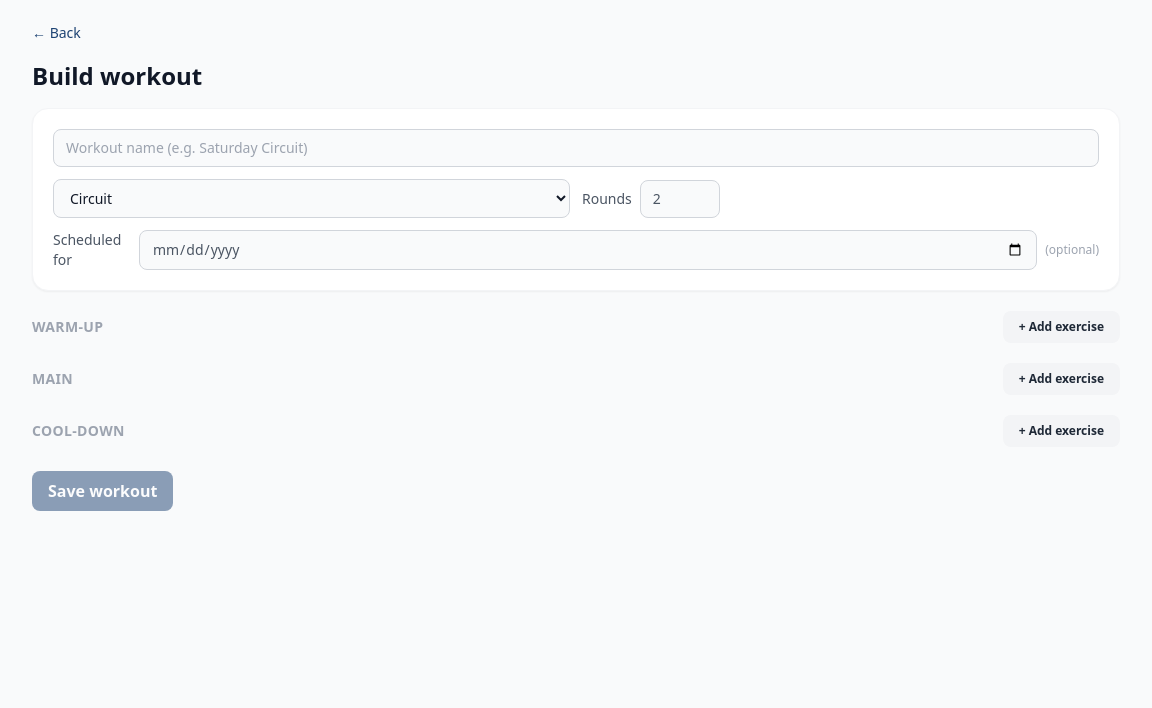
Test: WorkoutBuilderView › save is disabled until there is a name and an item
Check: the button with test id "save" is disabled, box [32, 471, 173, 511]
In the field with test id "tpl-name": x=576, y=148 [53, 129, 1099, 167], type "Saturday Circuit"
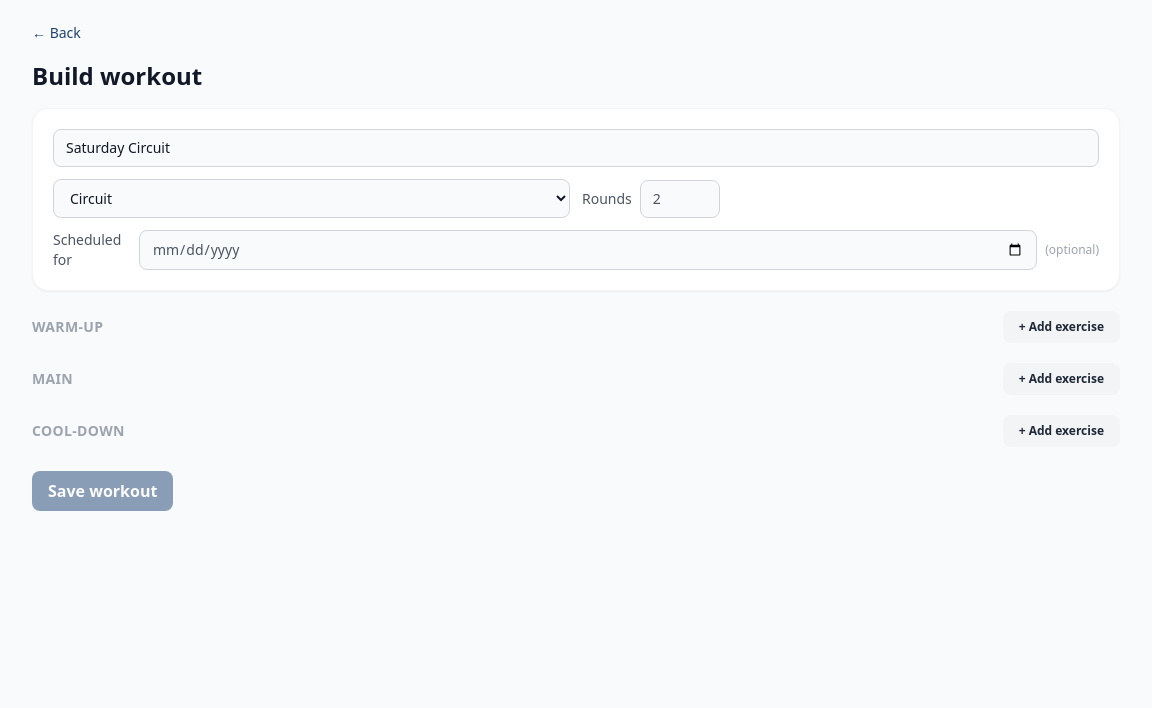
Click the button with test id "add-main": x=1061, y=379 [1003, 363, 1120, 395]
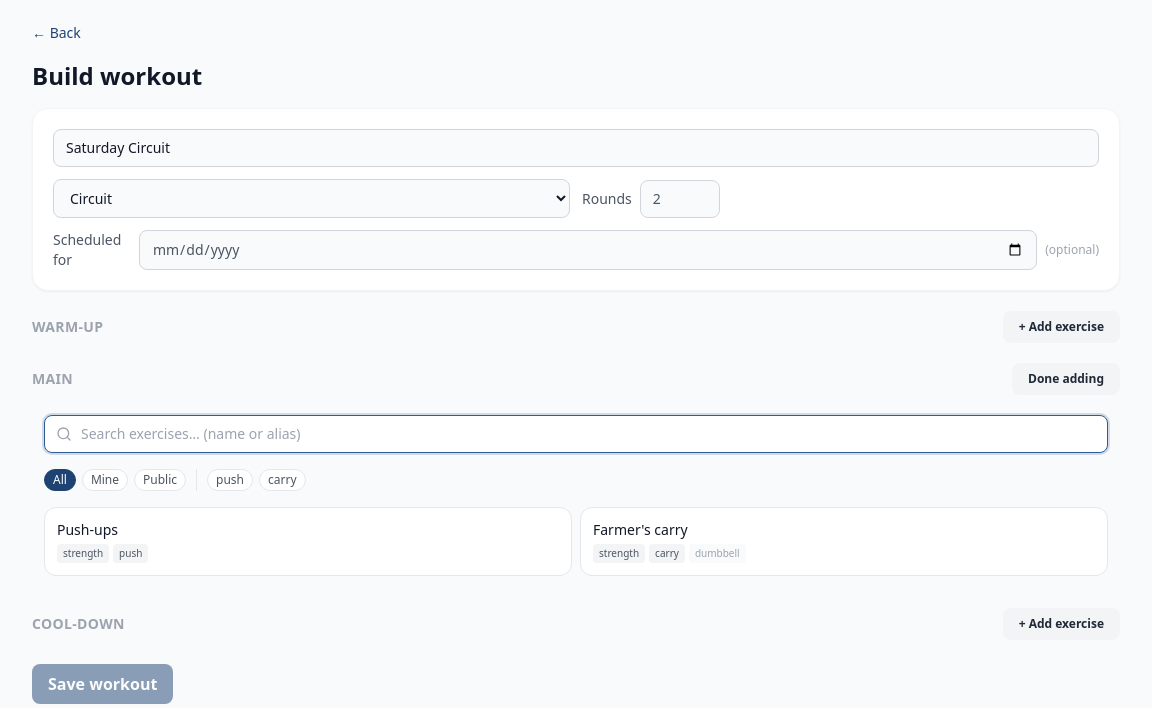
Click the button with test id "ex-pushups": x=87, y=530 [44, 507, 572, 576]
(page scrolled)
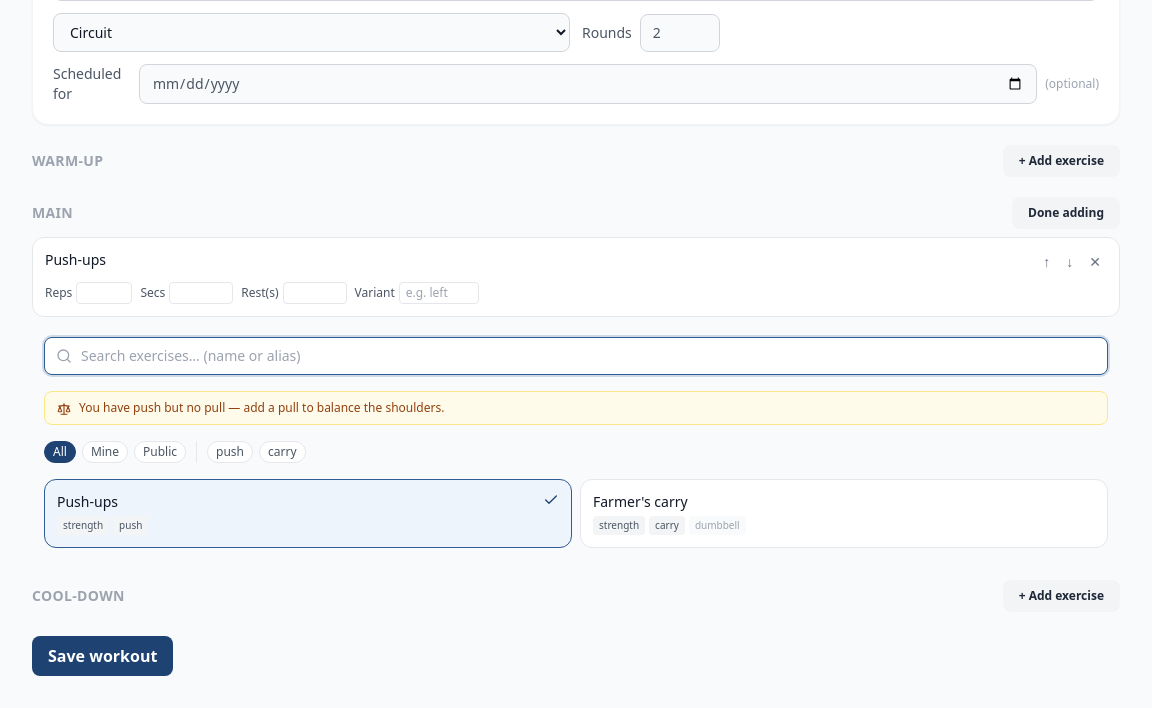
Check: the button with test id "save" is enabled, box [32, 636, 173, 676]
